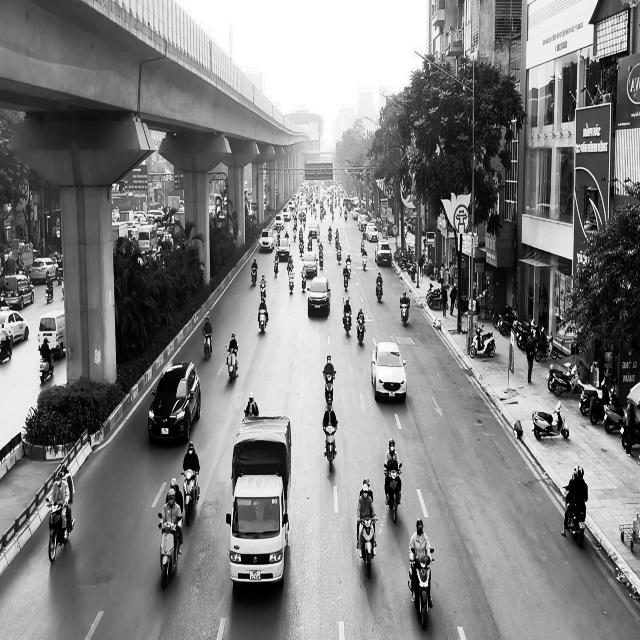car: (148, 361, 201, 443), (371, 341, 407, 402), (307, 276, 331, 317), (375, 240, 392, 266), (302, 251, 318, 277), (259, 229, 274, 252)
motorbike: (408, 547, 435, 630), (158, 513, 183, 589), (46, 498, 75, 562), (562, 486, 587, 547), (532, 400, 570, 440), (358, 516, 378, 579), (384, 464, 403, 524), (181, 468, 200, 526), (470, 323, 496, 358), (323, 422, 338, 472), (226, 343, 239, 382), (324, 370, 336, 406), (38, 356, 54, 383), (258, 300, 269, 333), (202, 329, 213, 360), (400, 296, 410, 325), (356, 317, 366, 344), (343, 308, 352, 336), (343, 265, 351, 290), (288, 268, 295, 294), (45, 283, 54, 303), (260, 282, 267, 304), (376, 280, 383, 301), (300, 267, 306, 291), (251, 266, 258, 286), (274, 256, 279, 279), (362, 252, 367, 270)
